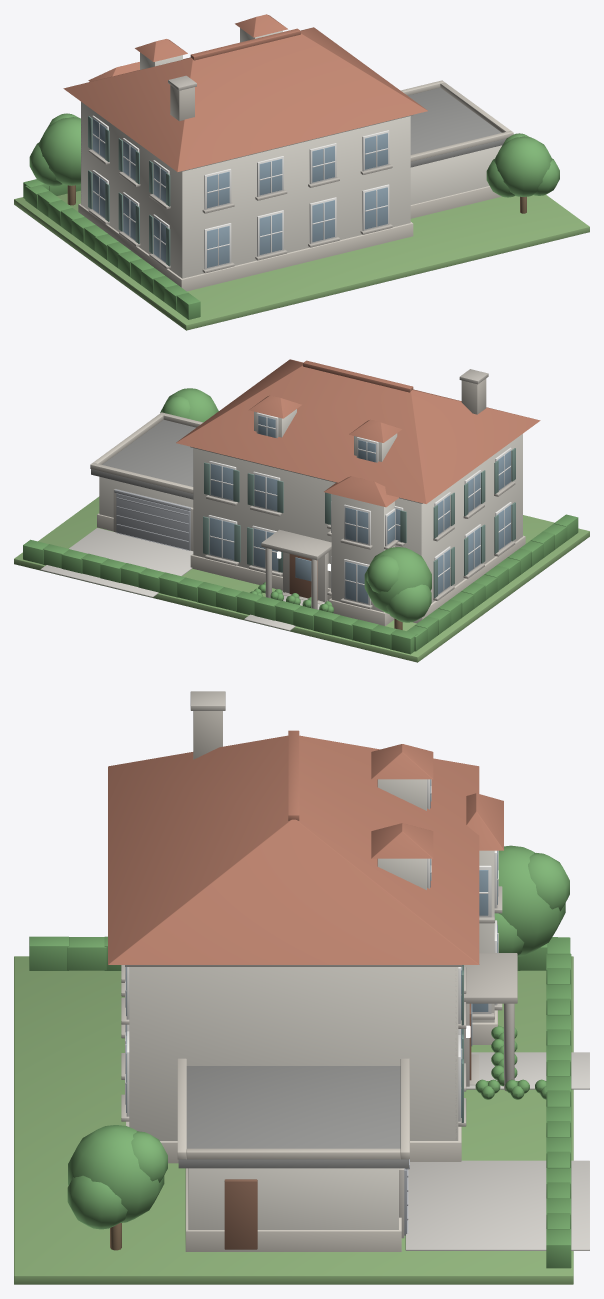
The model's file is th22_villa.glb.
3 renders of one model, top to bottom at view 1: azimuth 30°, elevation 25°; view 2: azimuth 150°, elevation 25°; view 3: azimuth 270°, elevation 25°, orthographic. The views are drawn at different scales.
Parts seen in each view (by area): view 1: Walm.001, Cube.037, Cube, Cube.038, Cube.216, Cube.214, Sphere.004, Sphere, Cube.215, Cube.172, Cube.182, Cube.201 (+18 smaller); view 2: Walm.001, Cube.037, Cube, Cube.216, Cube.002, Cube.041, Cube.222, Cube.038, Sphere, Cube.072, Cube.214, Walm (+45 smaller); view 3: Walm.001, Cube, Cube.037, Cube.216, Cube.002, Cube.214, Sphere.004, Cube.215, Sphere, Cube.220, Cube.072, Cube.229 (+19 smaller).
Part boxes in pixels (left/top/right/bottom): Walm.001: left=63, top=27, right=427, bottom=171; Cube.037: left=81, top=102, right=410, bottom=278; Cube: left=14, top=190, right=589, bottom=330; Cube.038: left=78, top=203, right=413, bottom=291; Cube.216: left=408, top=87, right=505, bottom=167; Cube.214: left=410, top=145, right=501, bottom=204; Sphere.004: left=494, top=136, right=552, bottom=196; Sphere: left=38, top=117, right=80, bottom=185; Cube.215: left=410, top=186, right=501, bottom=218; Cube.172: left=259, top=213, right=282, bottom=254; Cube.182: left=312, top=200, right=334, bottom=242; Cube.201: left=190, top=28, right=300, bottom=60; Walm.001: left=176, top=359, right=540, bottom=503; Cube.037: left=193, top=434, right=522, bottom=603; Cube: left=14, top=496, right=589, bottom=662; Cube.216: left=91, top=419, right=195, bottom=499; Cube.002: left=40, top=528, right=193, bottom=597; Cube.041: left=331, top=494, right=394, bottom=612; Cube.222: left=116, top=493, right=190, bottom=550; Cube.038: left=190, top=535, right=525, bottom=623; Sphere: left=364, top=547, right=431, bottom=614; Cube.072: left=261, top=529, right=331, bottom=560; Cube.214: left=99, top=476, right=193, bottom=517; Walm: left=324, top=476, right=398, bottom=507; Walm.001: left=108, top=735, right=479, bottom=964; Cube: left=14, top=956, right=573, bottom=1284; Cube.037: left=129, top=967, right=458, bottom=1140; Cube.216: left=178, top=1066, right=408, bottom=1168; Cube.002: left=405, top=1160, right=589, bottom=1250; Cube.214: left=188, top=1168, right=398, bottom=1229; Sphere.004: left=68, top=1125, right=164, bottom=1222; Cube.215: left=185, top=1168, right=401, bottom=1251; Sphere: left=498, top=845, right=565, bottom=956; Cube.220: left=186, top=1148, right=400, bottom=1159; Cube.072: left=464, top=953, right=517, bottom=1003; Cube.229: left=224, top=1179, right=257, bottom=1249.
Bounding box in the file's own units: 23 × 10.43 × 17.5.
